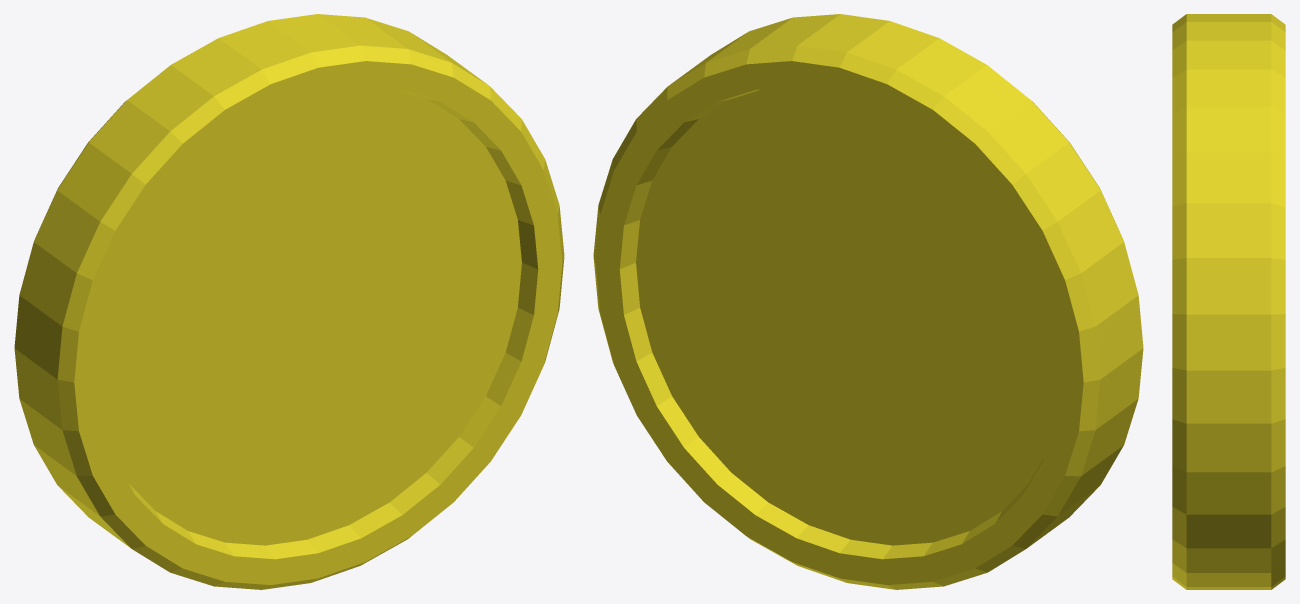
Rendered from coin.fbx.
3 views of the same model, side by side, from view 1: azimuth 30°, elevation 25°; view 2: azimuth 150°, elevation 25°; view 3: azimuth 270°, elevation 25° (orthographic).
Parts seen in each view (by area): view 1: Cylinder.002; view 2: Cylinder.002; view 3: Cylinder.002.
Part boxes in pixels (bbox=[...]): Cylinder.002: bbox=[14, 14, 564, 589]; Cylinder.002: bbox=[593, 14, 1143, 589]; Cylinder.002: bbox=[1172, 14, 1285, 589].
Bounding box in the file's own units: 73.29 × 73.29 × 14.43.
